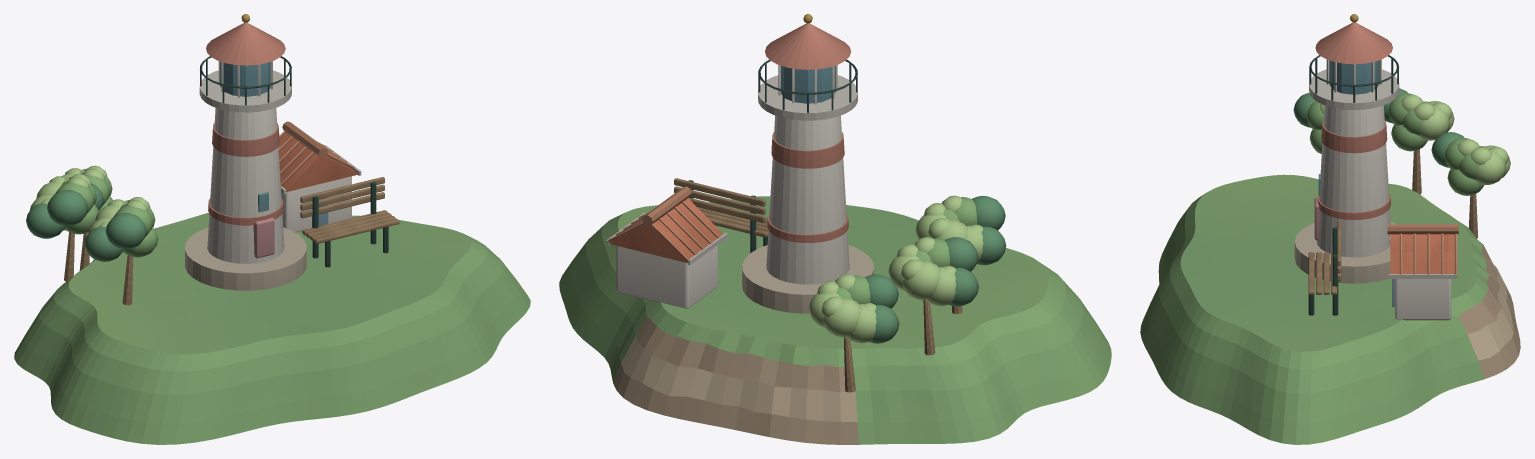
File: hill.glb
The picture shows the model from 3 angles, left to right: view 1: azimuth 30°, elevation 25°; view 2: azimuth 150°, elevation 25°; view 3: azimuth 270°, elevation 25°; orthographic projection. The views are drawn at different scales.
Visible parts, largest first — view 1: hill_static; view 2: hill_static; view 3: hill_static.
Part boxes in pixels (<box>): hill_static: <box>14,14,530,444</box>; hill_static: <box>559,14,1111,444</box>; hill_static: <box>1140,14,1520,444</box>.
Bounding box in the file's own units: 8.57 × 5.48 × 6.07.
Materials: 6 (2 with a texture image).
